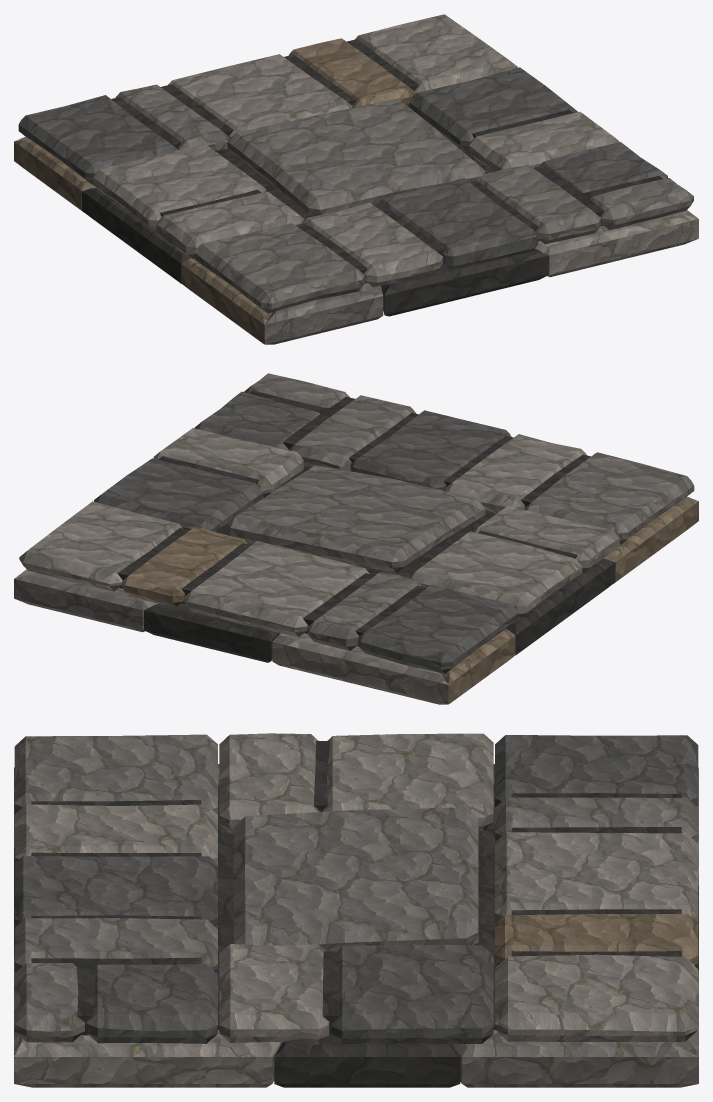
The model's file is floor_loose_flagstone.glb.
3 views of the same model, one above another, from view 1: azimuth 30°, elevation 25°; view 2: azimuth 150°, elevation 25°; view 3: azimuth 270°, elevation 25° (orthographic). The views are drawn at different scales.
Visible parts, largest first — view 1: frame, stone; view 2: frame, stone; view 3: frame, stone.
Boxes of the visible parts, x1,y1,x2,y2 form: frame: (14,14,698,344); stone: (228,98,485,216); frame: (14,373,698,704); stone: (227,465,485,573); frame: (14,733,698,1087); stone: (233,807,478,951).
Bounding box in the file's own units: 1.99 × 0.2734 × 1.99.
Materials: 5 (5 with a texture image).
